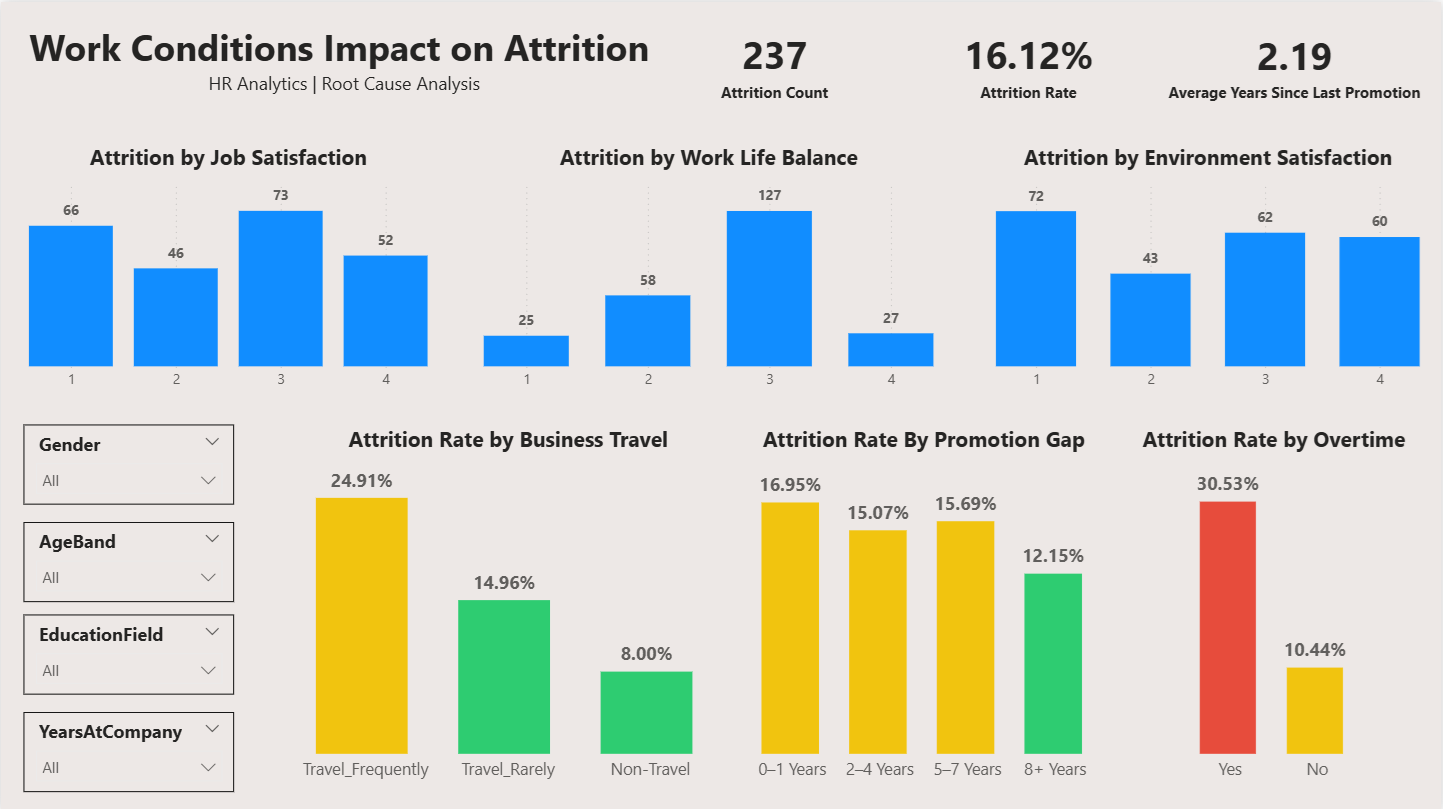

The page's visual inventory and layout, read from the dashboard file:
{"tool":"powerbi","page":{"name":"Work Conditions Impact on Attrition","canvas":[1280,720],"ordinal":3},"visuals":[{"type":"textbox","box":[20,13.7,570.2,86.1],"z":0},{"type":"card","fields":{"Values":["Key Measures.Employees Left"]},"box":[579.3,13.5,217.9,85.8],"z":1000},{"type":"card","fields":{"Values":["Key Measures.Attrition Rate"]},"box":[804.5,13.5,217.9,85.8],"z":2000},{"type":"card","fields":{"Values":["Avg(Fact_Attrition.YearsSinceLastPromotion)"]},"box":[1029.4,13.7,242.1,86.1],"z":3000},{"type":"group","id":"g1","title":"Group 1","box":[20,124.8,364.4,229.6],"z":4000},{"type":"clusteredColumnChart","title":"Attrition by Job Satisfaction","fields":{"Y":["Key Measures.Employees Left"],"Category":["Dim_WorkConditions.JobSatisfaction"]},"box":[20,124.8,364.4,229.6],"z":5000,"group":"g1"},{"type":"columnChart","title":"Attrition by Work Life Balance","fields":{"Y":["Key Measures.Employees Left"],"Category":["Dim_WorkConditions.WorkLifeBalance"]},"box":[419.3,124.8,420.5,229.6],"z":5000},{"type":"slicer","fields":{"Values":["Dim_Employee.Gender"]},"box":[20.3,376,187.4,71.1],"z":6000},{"type":"slicer","fields":{"Values":["Dim_Employee.AgeBand"]},"box":[20.3,461.8,187.4,71.1],"z":7000},{"type":"slicer","fields":{"Values":["Dim_Employee.EducationField"]},"box":[20.3,544.3,187.4,71.1],"z":8000},{"type":"slicer","fields":{"Values":["Fact_Attrition.YearsAtCompany"]},"box":[20.3,631.2,187.4,71.1],"z":9000},{"type":"clusteredColumnChart","title":"Attrition by Environment Satisfaction","fields":{"Y":["Key Measures.Employees Left"],"Category":["Dim_WorkConditions.EnvironmentSatisfaction"]},"box":[874.7,124.8,396.8,229.6],"z":10000},{"type":"clusteredColumnChart","title":"Attrition Rate by Overtime","fields":{"Category":["Dim_WorkConditions.OverTime"],"Y":["Key Measures.Attrition Rate"]},"box":[990.8,375.6,280.8,326.9],"z":11000},{"type":"clusteredColumnChart","title":"Attrition Rate by Business Travel","fields":{"Category":["Dim_Job.BusinessTravel"],"Y":["Key Measures.Attrition Rate"]},"box":[224.6,375.6,453,326.9],"z":12000},{"type":"clusteredColumnChart","title":"Attrition Rate By Promotion Gap","fields":{"Category":["Fact_Attrition.Promotion Band"],"Y":["Key Measures.Attrition Rate"]},"box":[640.1,375.6,360.6,326.9],"z":13000}]}

Visuals, with their boxes in screenshot pixels (x1, y1, x2, y2), scaled from the page's 1280x720 canvas onto the 1443x809 screenshot:
textbox: crop(23, 15, 665, 112)
card - Key Measures.Employees Left: crop(653, 15, 899, 112)
card - Key Measures.Attrition Rate: crop(907, 15, 1153, 112)
card - Avg(Fact_Attrition.YearsSinceLastPromotion): crop(1160, 15, 1433, 112)
"Group 1" group: crop(23, 140, 433, 398)
"Attrition by Job Satisfaction" clusteredColumnChart: crop(23, 140, 433, 398)
"Attrition by Work Life Balance" columnChart: crop(473, 140, 947, 398)
slicer - Dim_Employee.Gender: crop(23, 422, 234, 502)
slicer - Dim_Employee.AgeBand: crop(23, 519, 234, 599)
slicer - Dim_Employee.EducationField: crop(23, 612, 234, 691)
slicer - Fact_Attrition.YearsAtCompany: crop(23, 709, 234, 789)
"Attrition by Environment Satisfaction" clusteredColumnChart: crop(986, 140, 1433, 398)
"Attrition Rate by Overtime" clusteredColumnChart: crop(1117, 422, 1434, 789)
"Attrition Rate by Business Travel" clusteredColumnChart: crop(253, 422, 764, 789)
"Attrition Rate By Promotion Gap" clusteredColumnChart: crop(722, 422, 1128, 789)
